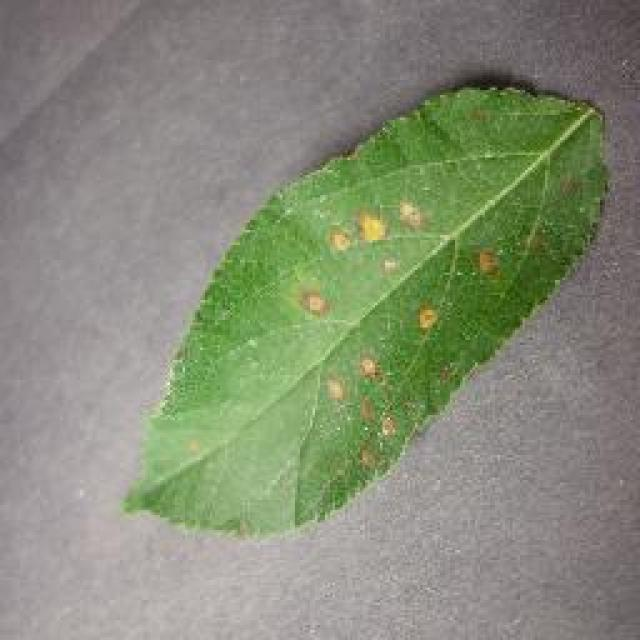apple scab disease: (120, 78, 610, 538)
